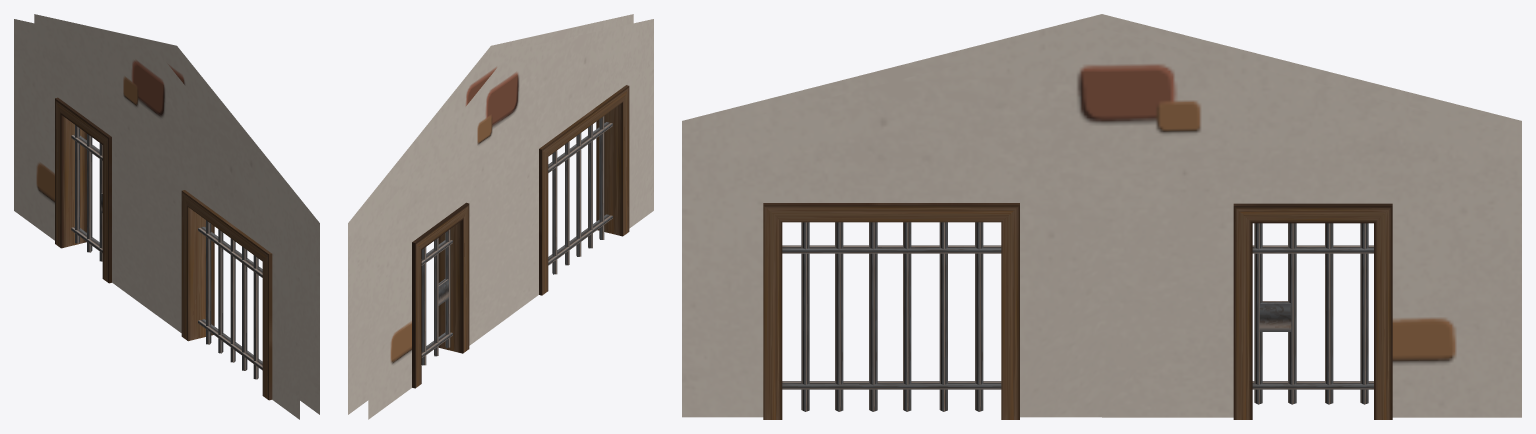
File: House_02_Int_02.FBX
3 views of the same model, side by side, from view 1: azimuth 30°, elevation 25°; view 2: azimuth 150°, elevation 25°; view 3: azimuth 270°, elevation 25° (orthographic). The views are drawn at different scales.
Visible parts, largest first — view 1: House_02_Int_02, Door; view 2: House_02_Int_02, Door; view 3: House_02_Int_02, Door.
Boxes of the visible parts, x1,y1,x2,y2 form: House_02_Int_02: [14, 14, 319, 419]; Door: [71, 125, 102, 261]; House_02_Int_02: [348, 14, 653, 419]; Door: [421, 229, 452, 365]; House_02_Int_02: [682, 14, 1521, 419]; Door: [1252, 223, 1373, 404].
Size of the model in its own units: 0.3992 by 3.78 by 7.4.
